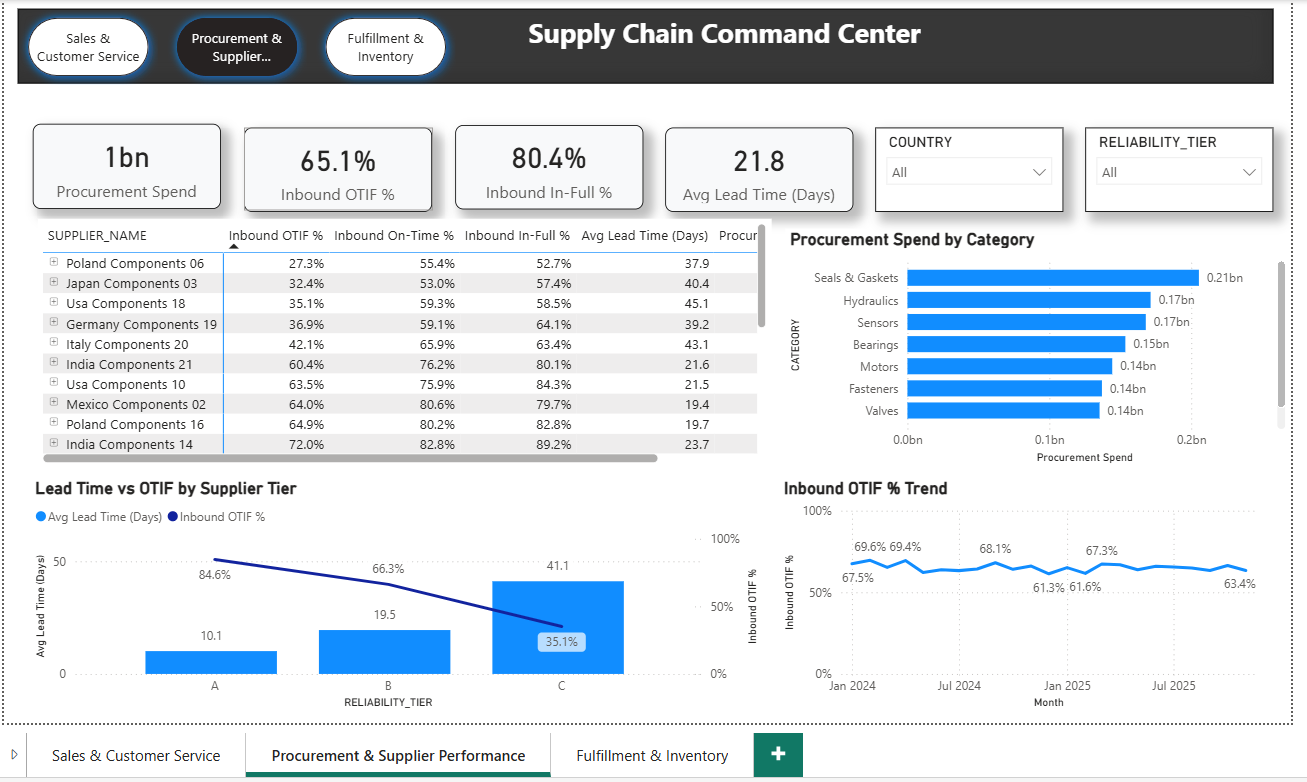

The dashboard page shown, as its layout file describes it:
{"tool":"powerbi","page":{"name":"Procurement & Supplier Performance","canvas":[1280,720],"ordinal":1},"visuals":[{"type":"textbox","box":[13.9,8.3,1249.5,74],"z":0},{"type":"card","fields":{"Values":["FACT_PURCHASE_ORDERS.Procurement Spend"]},"box":[29.1,122.7,187,84.5],"z":1000},{"type":"card","fields":{"Values":["FACT_PURCHASE_ORDERS.Inbound OTIF %"]},"box":[239.2,126.8,187,84],"z":2000},{"type":"card","fields":{"Values":["FACT_PURCHASE_ORDERS.Inbound In-Full %"]},"box":[448.5,124,187,84],"z":3000},{"type":"card","fields":{"Values":["FACT_PURCHASE_ORDERS.Avg Lead Time (Days)"]},"box":[657.8,126.5,187,84],"z":4000},{"type":"pivotTable","fields":{"Rows":["DIM_SUPPLIER.SUPPLIER_NAME","DIM_SUPPLIER.RELIABILITY_TIER"],"Values":["FACT_PURCHASE_ORDERS.Inbound OTIF %","FACT_PURCHASE_ORDERS.Inbound On-Time %","FACT_PURCHASE_ORDERS.Inbound In-Full %","FACT_PURCHASE_ORDERS.Avg Lead Time (Days)","FACT_PURCHASE_ORDERS.Procurement Spend"]},"box":[33.2,217.5,730,248],"z":5000},{"type":"clusteredBarChart","title":"Procurement Spend by Category","fields":{"Category":["DIM_PRODUCT.CATEGORY"],"Y":["FACT_PURCHASE_ORDERS.Procurement Spend"]},"box":[777.1,227.2,502.9,238.3],"z":6000},{"type":"lineClusteredColumnComboChart","title":"Lead Time vs OTIF by Supplier Tier","fields":{"Category":["DIM_SUPPLIER.RELIABILITY_TIER"],"Y":["FACT_PURCHASE_ORDERS.Avg Lead Time (Days)"],"Y2":["FACT_PURCHASE_ORDERS.Inbound OTIF %"]},"box":[26.3,475.2,730,235.5],"z":7000},{"type":"lineChart","title":"Inbound OTIF % Trend","fields":{"Category":["DIM_DATE.FULL_DATE.Variation.Date Hierarchy.Year","DIM_DATE.FULL_DATE.Variation.Date Hierarchy.Quarter","DIM_DATE.FULL_DATE.Variation.Date Hierarchy.Month","DIM_DATE.FULL_DATE.Variation.Date Hierarchy.Day"],"Y":["FACT_PURCHASE_ORDERS.Inbound OTIF %"]},"box":[771.6,475.2,491.8,235.5],"z":8000},{"type":"slicer","fields":{"Values":["DIM_SUPPLIER.COUNTRY"]},"box":[867.1,126.8,187,84],"z":9000},{"type":"slicer","fields":{"Values":["DIM_SUPPLIER.RELIABILITY_TIER"]},"box":[1076.4,126.8,187,84],"z":10000},{"type":"pageNavigator","box":[15.2,8.3,435,76],"z":11000}]}

Visuals, with their boxes on the page's 1280x720 design canvas (x1, y1, x2, y2). These are canvas units, not pixel positions in the 1307x782 screenshot, which may show the page scaled, cropped or inside an application window:
textbox: 14 8 1263 82
card - FACT_PURCHASE_ORDERS.Procurement Spend: 29 123 216 207
card - FACT_PURCHASE_ORDERS.Inbound OTIF %: 239 127 426 211
card - FACT_PURCHASE_ORDERS.Inbound In-Full %: 448 124 636 208
card - FACT_PURCHASE_ORDERS.Avg Lead Time (Days): 658 126 845 210
pivotTable - DIM_SUPPLIER.SUPPLIER_NAME x DIM_SUPPLIER.RELIABILITY_TIER: 33 218 763 466
"Procurement Spend by Category" clusteredBarChart: 777 227 1280 466
"Lead Time vs OTIF by Supplier Tier" lineClusteredColumnComboChart: 26 475 756 711
"Inbound OTIF % Trend" lineChart: 772 475 1263 711
slicer - DIM_SUPPLIER.COUNTRY: 867 127 1054 211
slicer - DIM_SUPPLIER.RELIABILITY_TIER: 1076 127 1263 211
pageNavigator: 15 8 450 84
